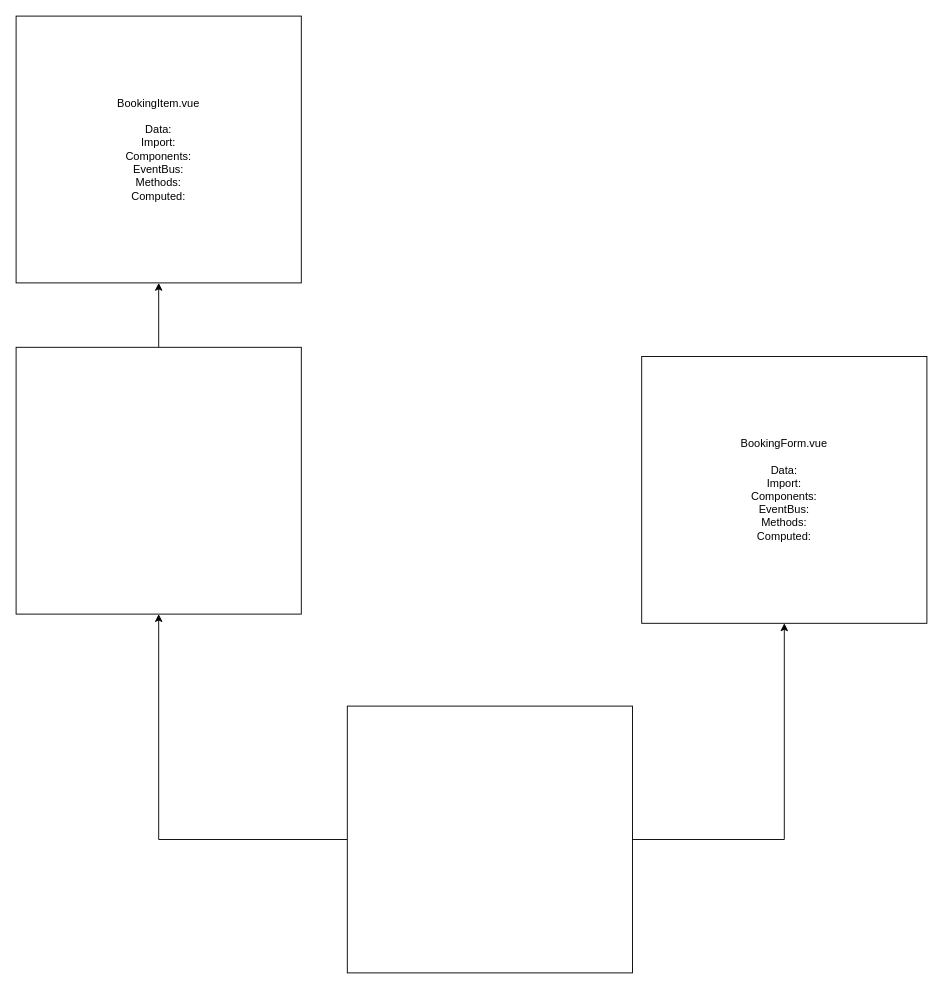
The diagram is 943 pixels wide and 989 high, and some of its shapes have lost their labels. The centre of each missing label's shape, as x and y in pixels:
"App.vue Data: Import: Components: EventBus: Methods: Computed:" goes at [489,839].
"BookingsList.vue Data: Import: Components: EventBus: Methods: Computed:" goes at [158,480].
